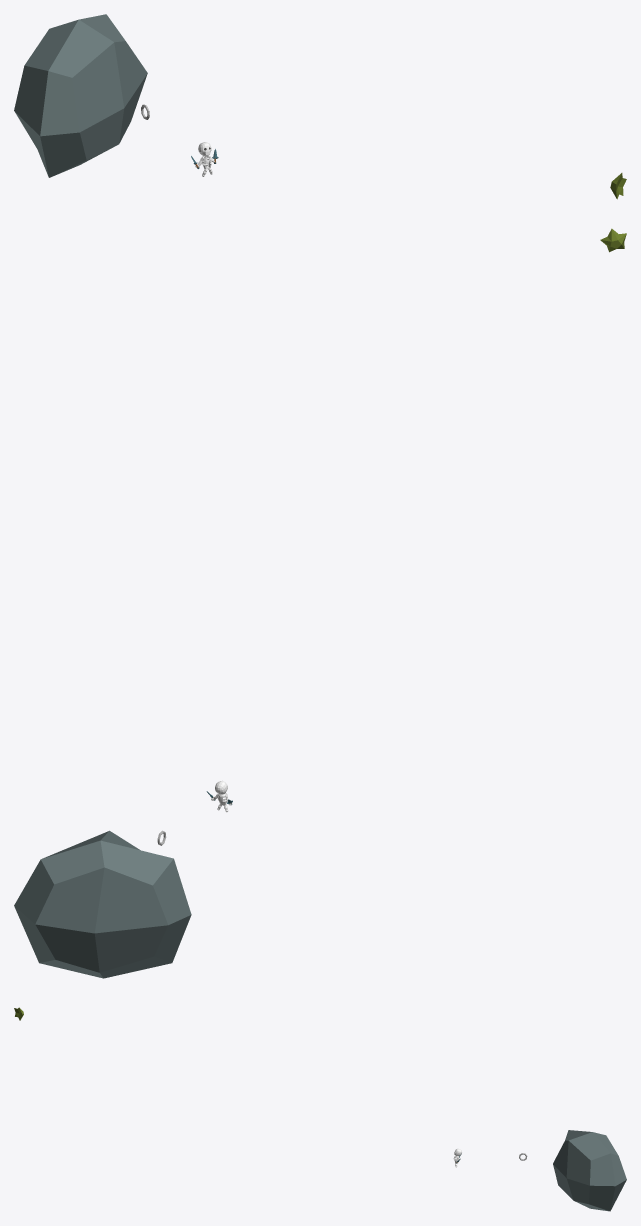
The picture shows the model from 3 angles, top to bottom: view 1: azimuth 30°, elevation 25°; view 2: azimuth 150°, elevation 25°; view 3: azimuth 270°, elevation 25°; orthographic projection. The views are drawn at different scales.
Parts seen in each view (by area): view 1: Box102_rock_0; view 2: Box102_rock_0; view 3: Box102_rock_0.
Part boxes in pixels (box(x1,y1,x2,y2)): Box102_rock_0: box(14, 14, 147, 177); Box102_rock_0: box(14, 830, 191, 978); Box102_rock_0: box(553, 1130, 626, 1211).
Size of the model in its own units: 729 by 1962 by 5348.
